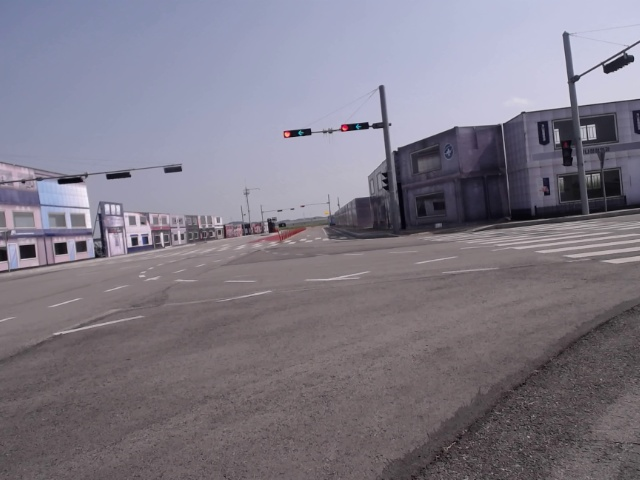left_green_4: (283, 130, 311, 137), (342, 124, 368, 131)
